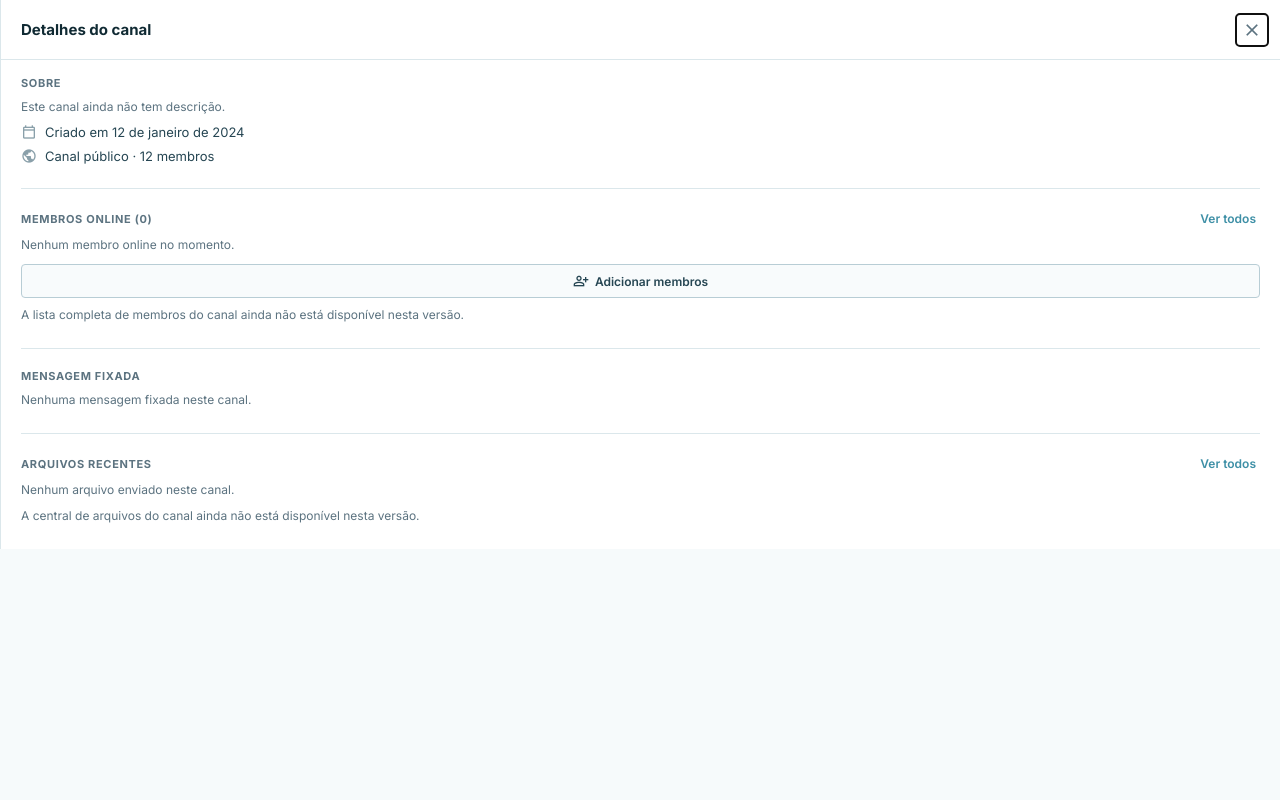
ConversationDetailsPanel — adicionar membros: fluxo › refetches after a successful add instead of merging the response
Click the button with test id "chat-details-add-members": point(640, 281) [21,264,1260,298]
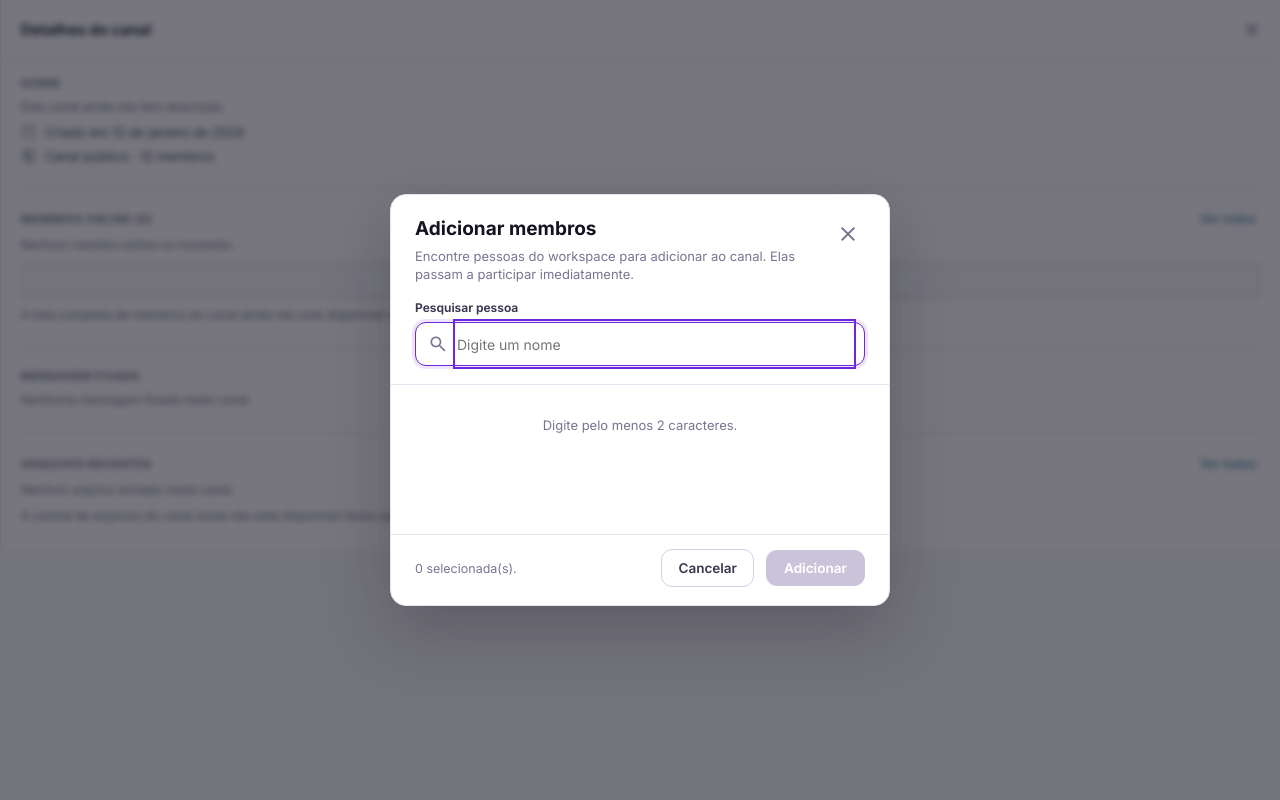
In the search field labelled "Pesquisar pessoa": point(654, 344) [457,323,852,365], type "br"
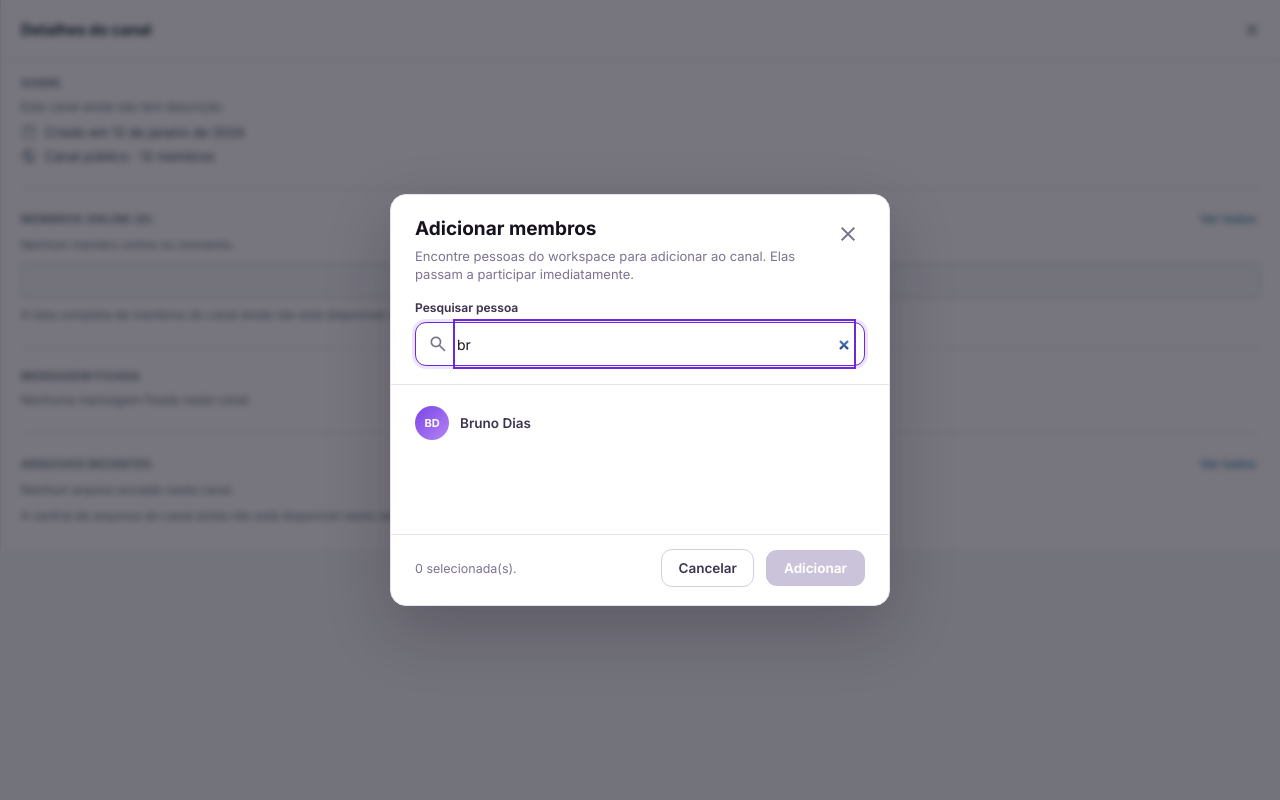
Click the button "BD Bruno Dias": point(432, 423) [405,397,875,449]
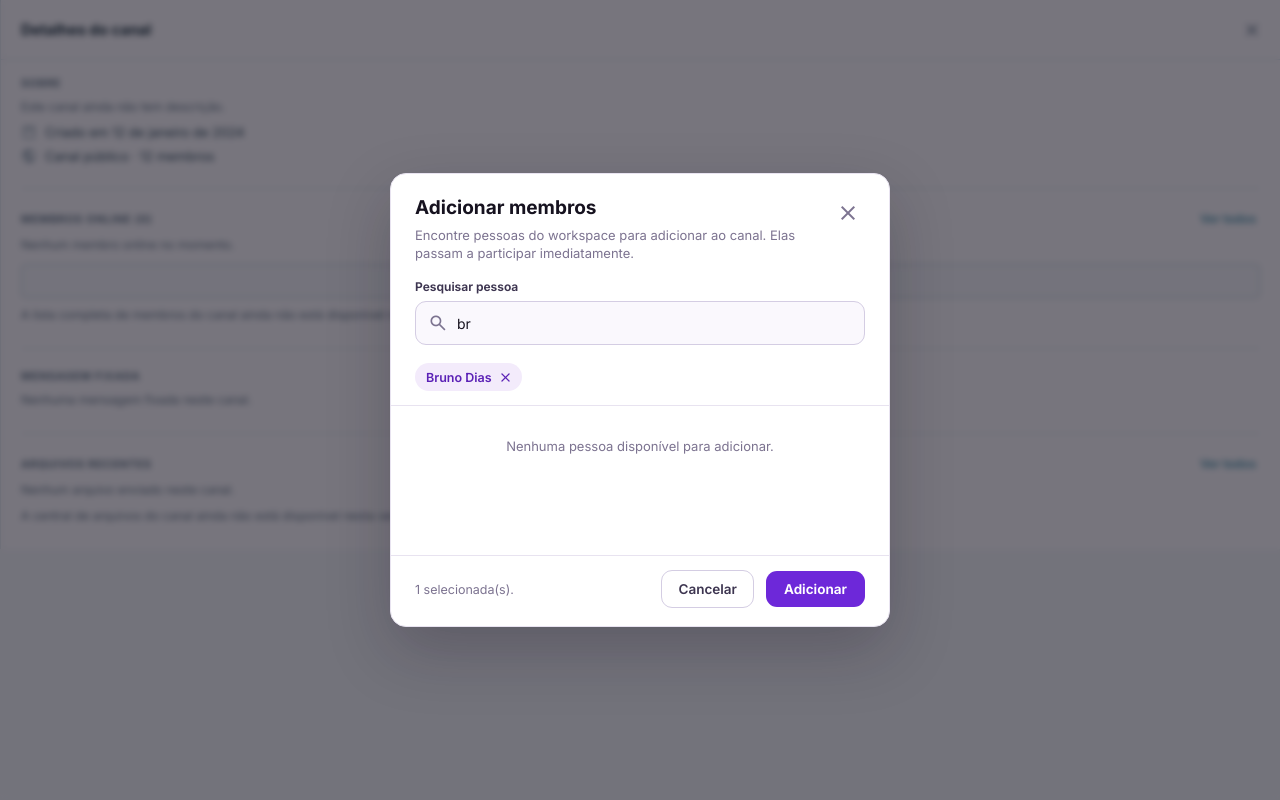
Click the button "Adicionar": point(815, 589) [766,571,865,607]
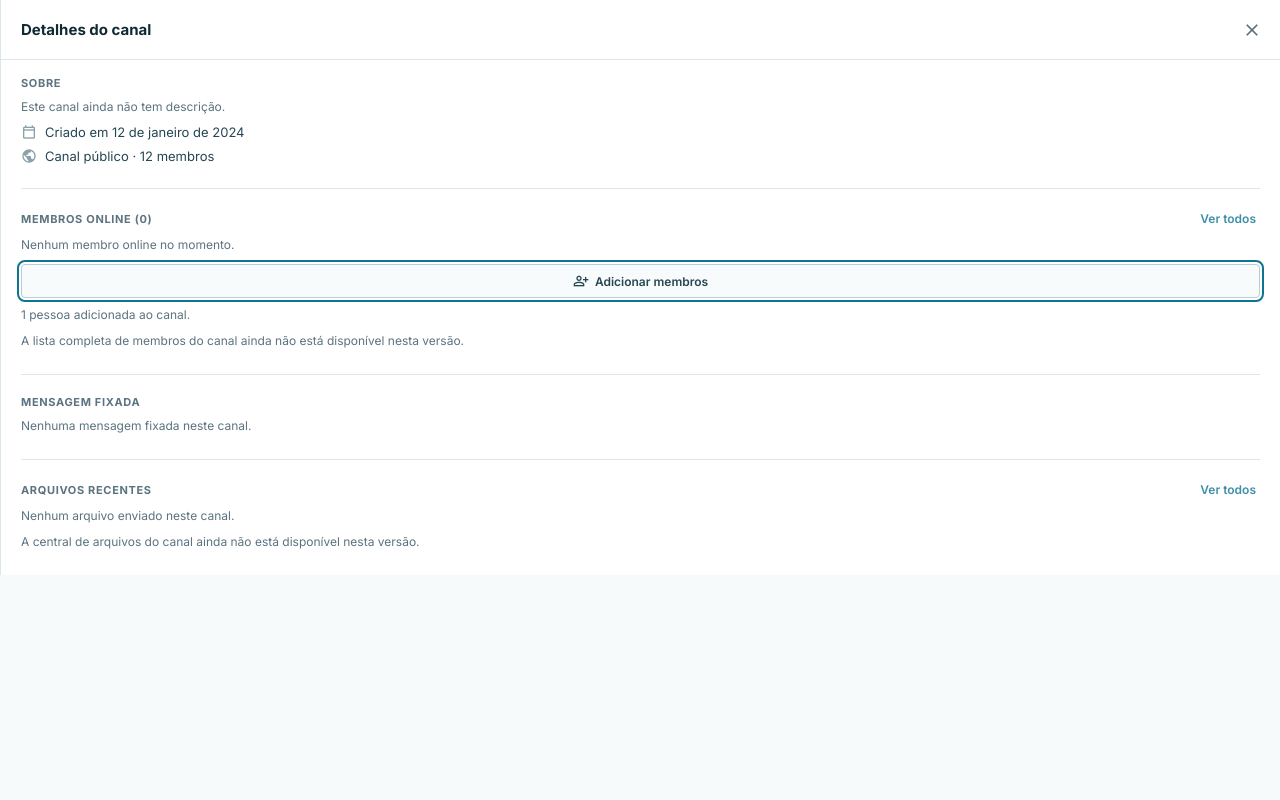
Expected: the text "1 pessoa adicionada ao canal." is shown, [21,307,190,322]
